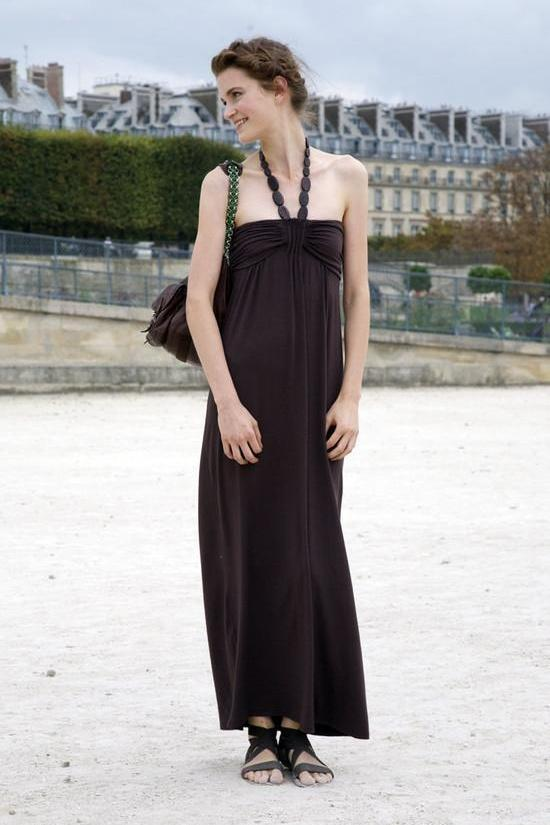dress: (198, 220, 369, 740)
